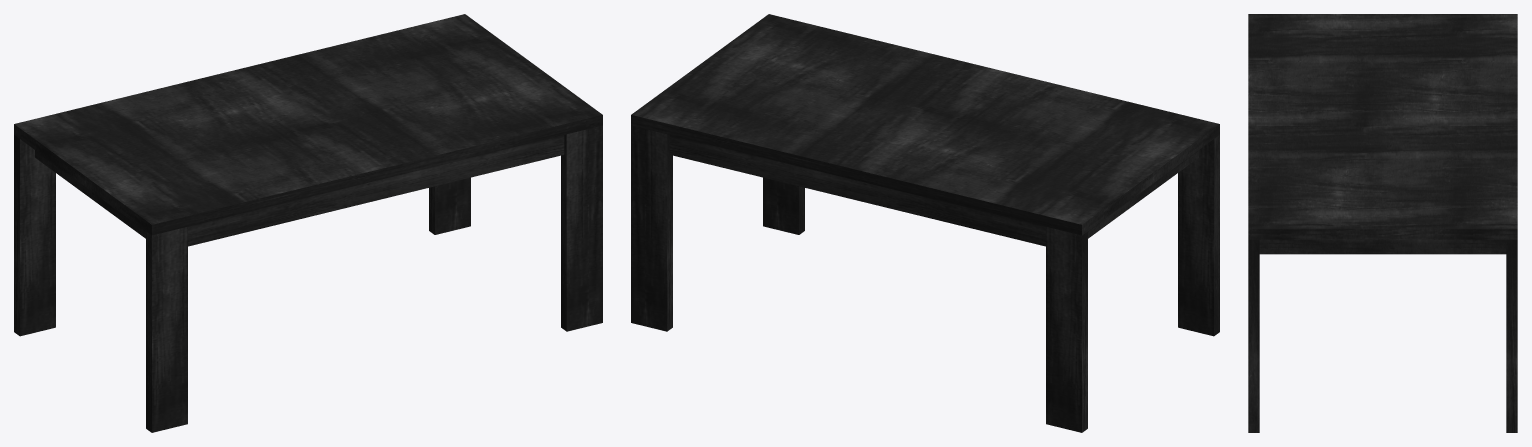
Rendered from sh_scopia_black_table.glb.
3 renders of one model, left to right at view 1: azimuth 30°, elevation 25°; view 2: azimuth 150°, elevation 25°; view 3: azimuth 270°, elevation 25°, orthographic. The views are drawn at different scales.
Size of the model in its own units: 1.7 by 0.75 by 0.9.
Materials: 1 (1 with a texture image).
